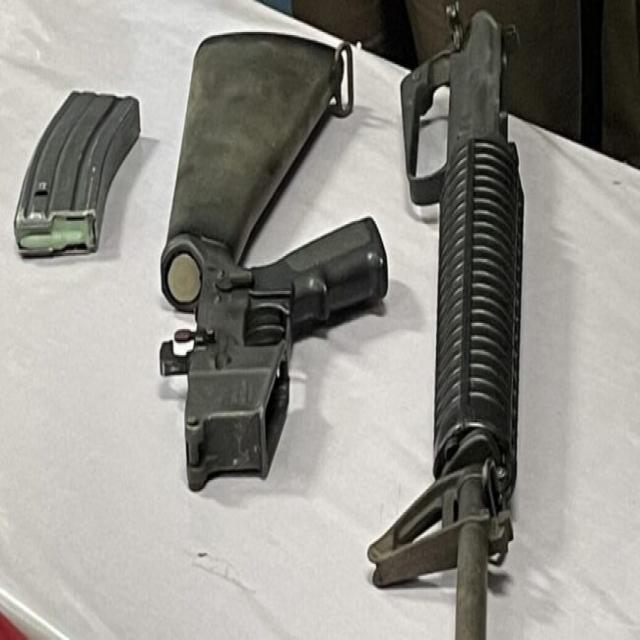m16: (386, 43, 558, 622)
